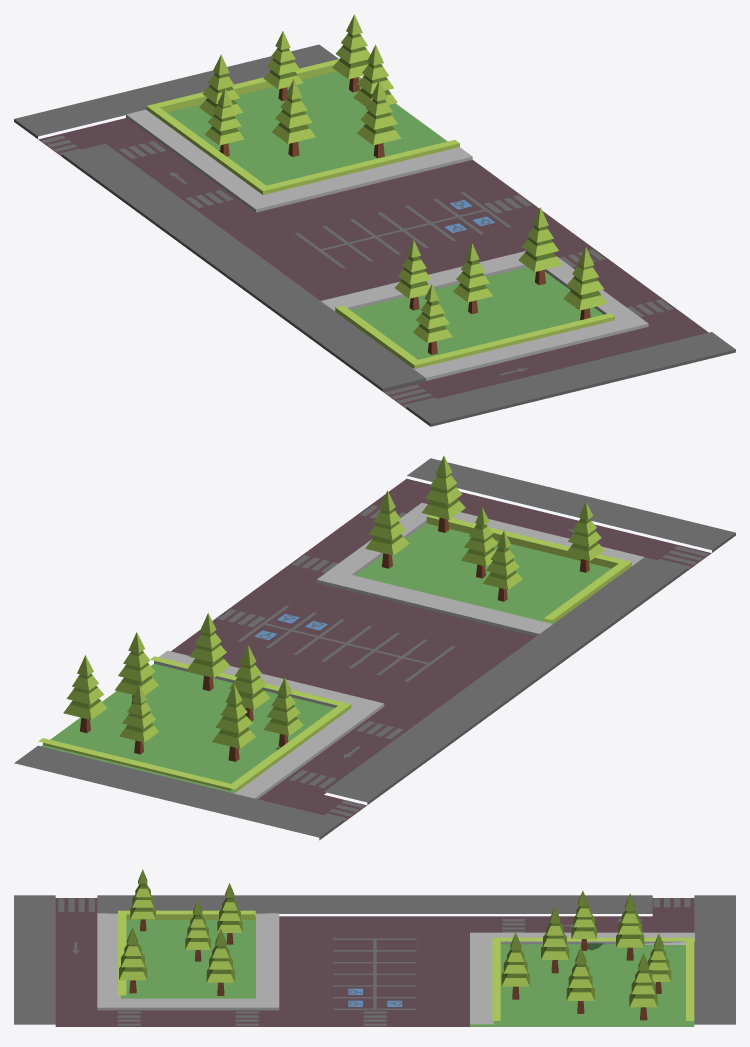
The model's file is pparking_lvl_2.FBX.
The picture shows the model from 3 angles, top to bottom: view 1: azimuth 30°, elevation 25°; view 2: azimuth 150°, elevation 25°; view 3: azimuth 270°, elevation 25°; orthographic projection. The views are drawn at different scales.
Parts seen in each view (by area): view 1: parking_lvl_2; view 2: parking_lvl_2; view 3: parking_lvl_2.
Boxes of the visible parts, bbox=[...] form: parking_lvl_2: bbox=[14, 14, 735, 426]; parking_lvl_2: bbox=[14, 456, 735, 840]; parking_lvl_2: bbox=[14, 869, 735, 1026].
Bounding box in the file's own units: 5500 × 1436 × 13000.
